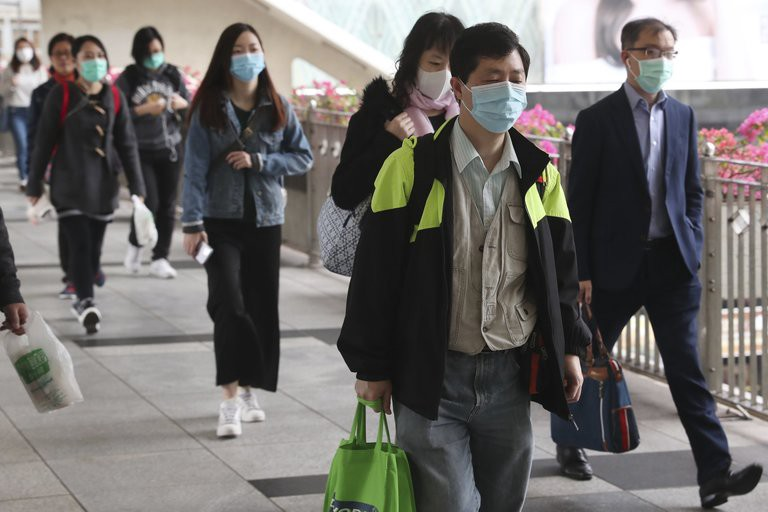with_mask: (470, 60, 529, 133), (636, 37, 677, 94), (415, 47, 453, 104), (75, 37, 110, 83), (229, 40, 263, 79), (140, 39, 165, 70)
without_mask: (52, 38, 73, 73)
